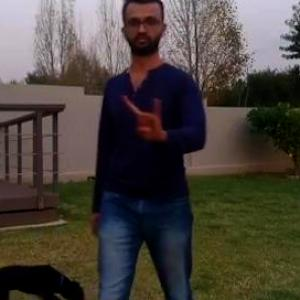takeoff-hand: (120, 85, 168, 144)
